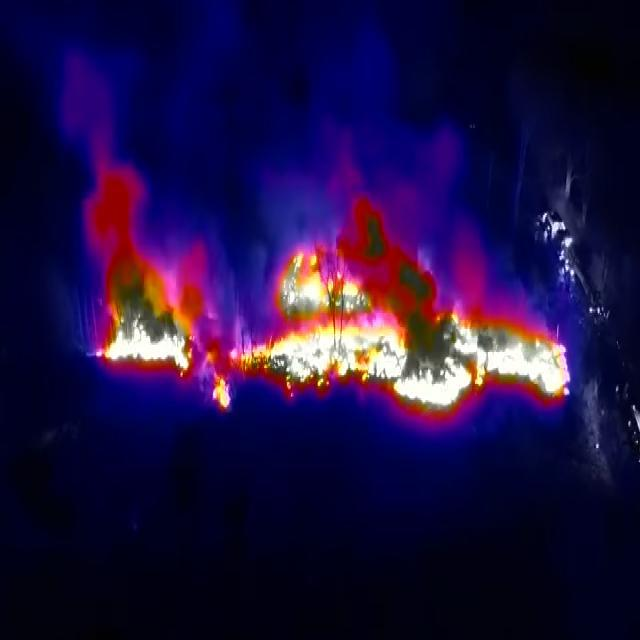fire: (213, 208, 568, 418), (96, 231, 205, 376)
